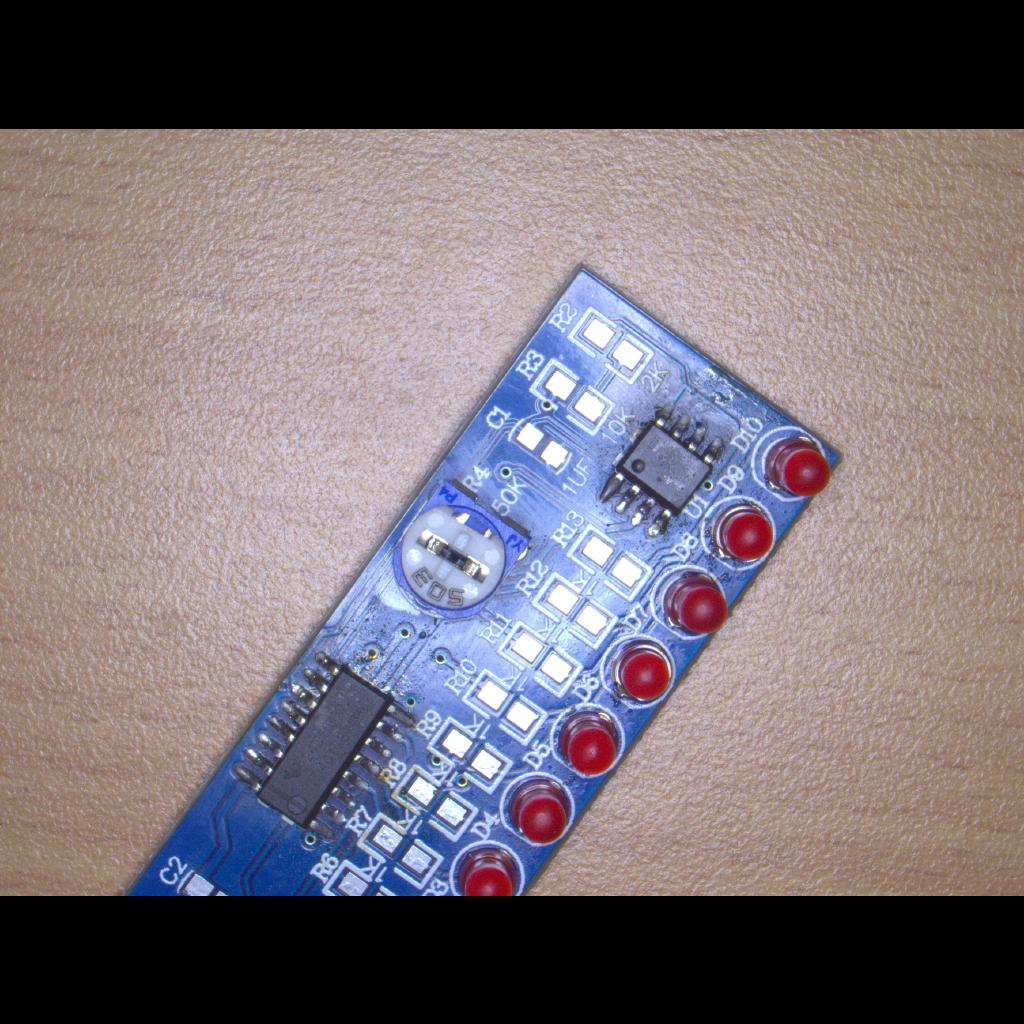NG: (458, 667, 551, 748), (493, 618, 584, 698), (530, 572, 617, 650), (427, 716, 514, 793), (390, 765, 476, 842), (567, 523, 651, 600), (356, 813, 441, 889), (529, 359, 613, 431), (569, 308, 651, 381), (503, 413, 577, 480)
OK: (217, 644, 426, 852), (589, 399, 731, 546)
